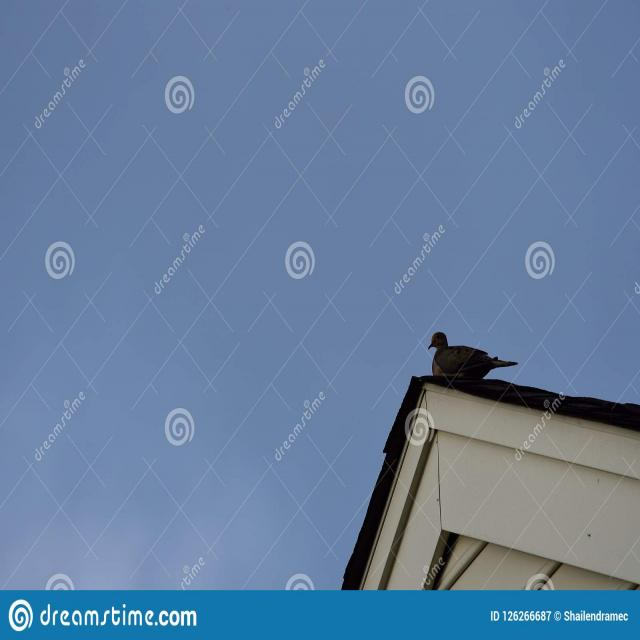bird: (427, 331, 519, 386)
